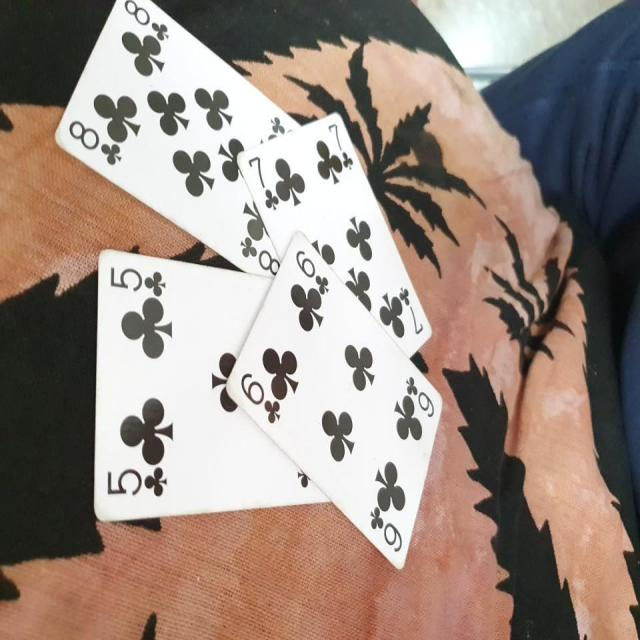5 Trefoils: (90, 246, 331, 527)
6 Trefoils: (225, 230, 444, 569)
7 Trefoils: (236, 110, 434, 361)
8 Trefoils: (54, 1, 301, 277)
